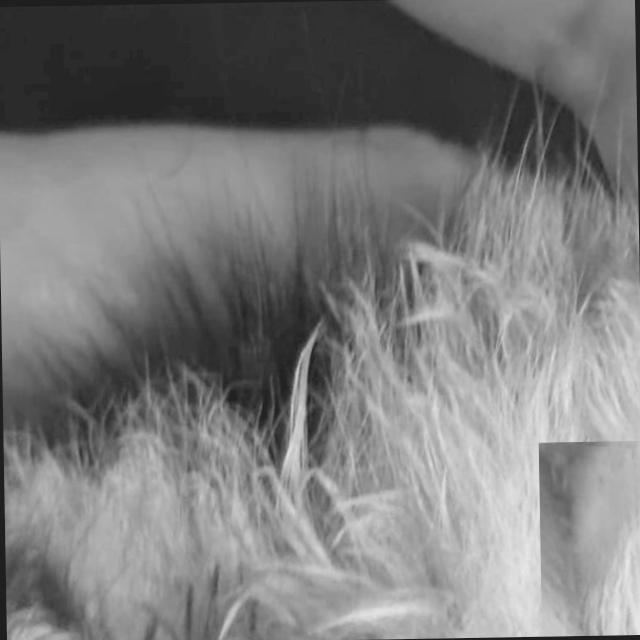fem: (537, 441, 640, 636)
